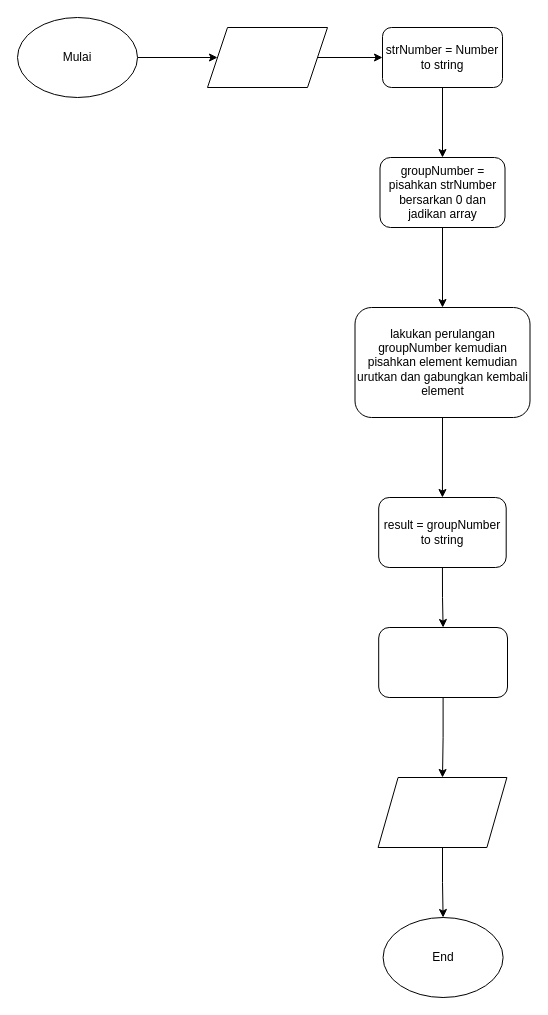
Some shapes in this 548 by 1015 pixel diagram are drawn without their labels. Each missing label, with the centre of its shape:
Input Number: point (267, 57)
result: point (442, 812)
result to integer: point (443, 662)
